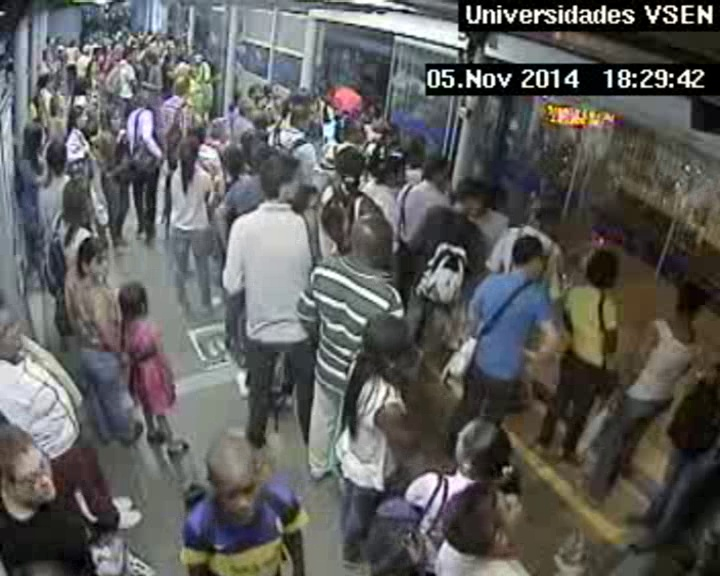person: (199, 435, 271, 522), (447, 480, 525, 560), (2, 422, 61, 511), (454, 418, 521, 484), (366, 312, 418, 366), (1, 303, 39, 361), (354, 216, 398, 266), (259, 156, 299, 203), (77, 236, 115, 279), (513, 235, 551, 278), (669, 284, 708, 325), (585, 247, 622, 290), (57, 178, 95, 218), (239, 129, 273, 164), (334, 145, 364, 183), (115, 281, 147, 316), (287, 87, 319, 121), (450, 176, 481, 211), (535, 199, 564, 227), (222, 145, 248, 175), (21, 125, 47, 154), (45, 142, 70, 172), (427, 161, 452, 189), (179, 135, 204, 161), (100, 104, 124, 131), (66, 105, 88, 129), (481, 187, 503, 211), (346, 118, 367, 142), (187, 127, 206, 147), (172, 75, 190, 96), (165, 129, 183, 150), (48, 98, 66, 117), (134, 89, 151, 108), (319, 84, 336, 103), (382, 169, 399, 188), (73, 80, 89, 95), (372, 112, 387, 128), (370, 157, 385, 173), (347, 78, 362, 93), (210, 123, 224, 138), (229, 104, 243, 119), (65, 65, 79, 79), (123, 48, 136, 62), (265, 83, 279, 96), (382, 133, 395, 146), (41, 72, 53, 86), (88, 60, 100, 74), (249, 84, 261, 98), (412, 152, 424, 166), (143, 54, 155, 66), (167, 45, 180, 56), (367, 101, 378, 114), (193, 51, 205, 62), (72, 48, 83, 59), (114, 43, 125, 54), (87, 122, 97, 134), (42, 49, 52, 60), (176, 53, 186, 64), (186, 70, 196, 80), (96, 51, 105, 62), (55, 36, 64, 45), (57, 49, 65, 58), (82, 48, 90, 57), (167, 37, 175, 46), (151, 38, 159, 47), (114, 30, 122, 39), (158, 39, 166, 47), (69, 39, 77, 46), (87, 37, 94, 45), (131, 40, 138, 48), (104, 30, 111, 37), (161, 49, 168, 56), (147, 30, 153, 36), (140, 26, 145, 32), (131, 32, 136, 37)
